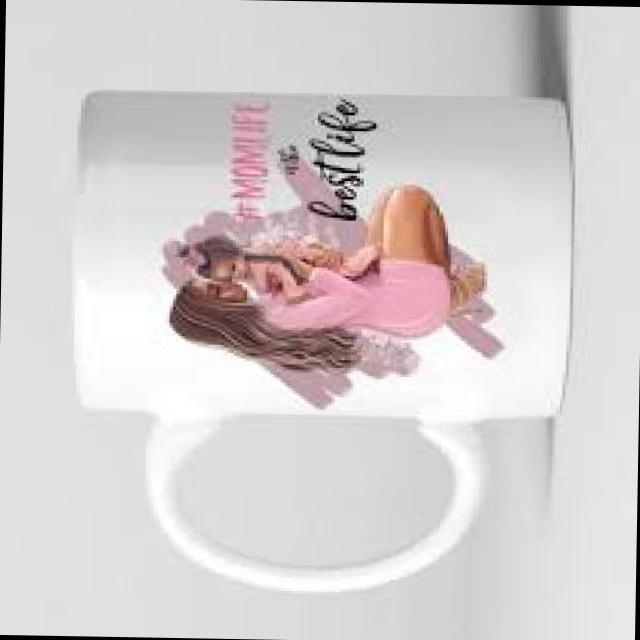Coffee Mug: (67, 86, 577, 594)
